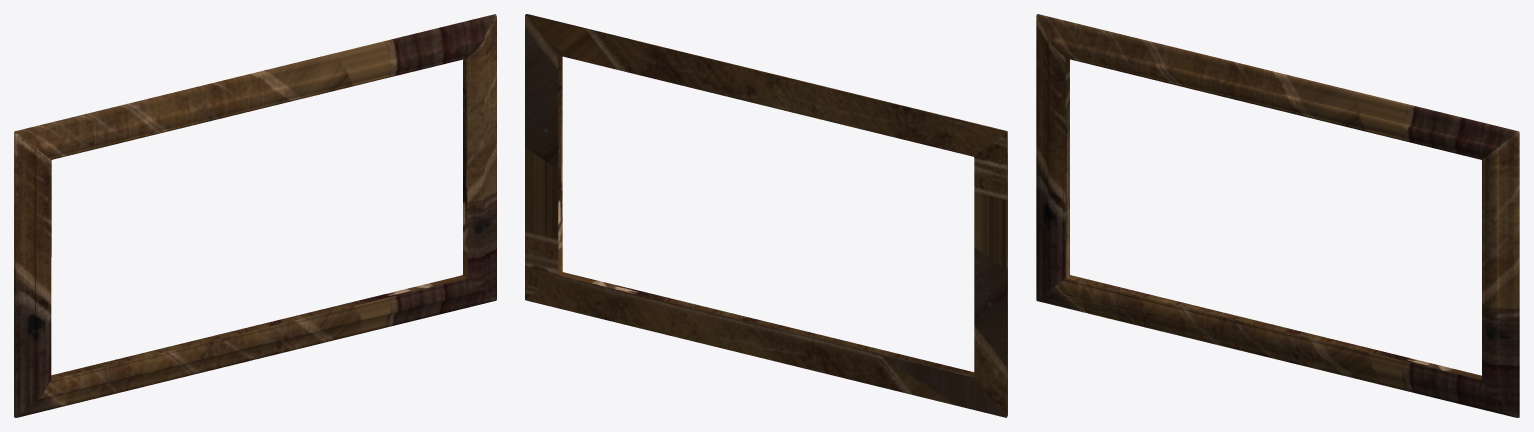
File: FrameBrkn.fbx
3 renders of one model, left to right at view 1: azimuth 30°, elevation 25°; view 2: azimuth 150°, elevation 25°; view 3: azimuth 330°, elevation 25°, orthographic.
Parts seen in each view (by area): view 1: Frame; view 2: Frame; view 3: Frame.
Part boxes in pixels (x1,y1,x2,y2): Frame: (14,14,496,417); Frame: (525,14,1007,417); Frame: (1036,14,1519,417).
Size of the model in its own units: 60.18 by 34.16 by 1.29.
